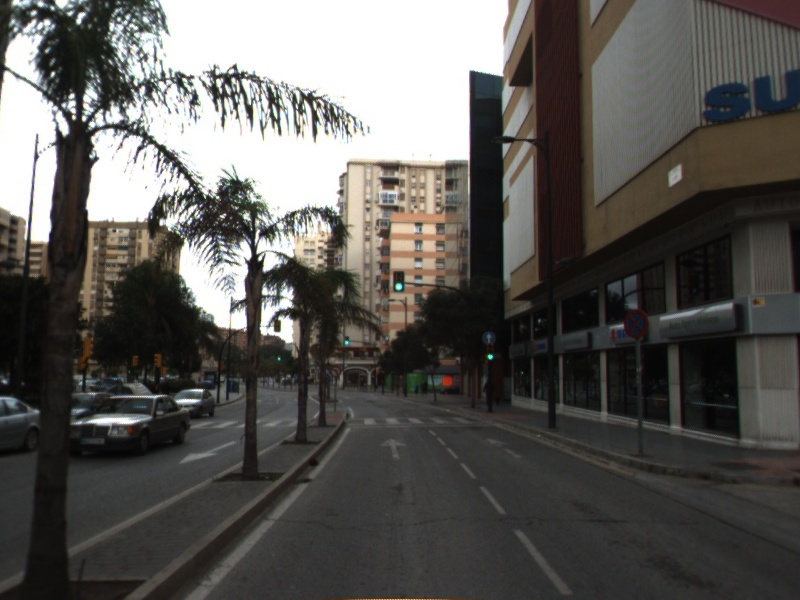STRAIGHT: (485, 436, 526, 460), (377, 435, 410, 461)
